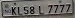character: (37, 4, 44, 15), (29, 5, 34, 15), (11, 6, 16, 15), (47, 4, 52, 13)
